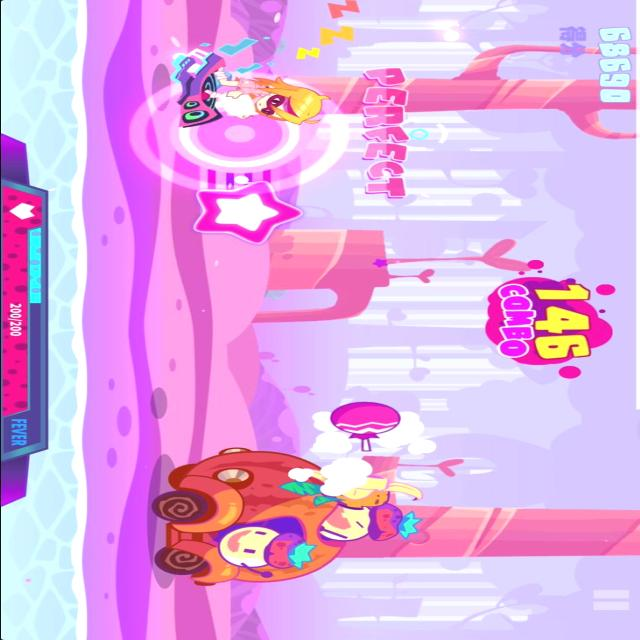cheboss: (151, 448, 419, 588)
hold: (192, 132, 298, 244)
tang: (328, 397, 410, 452)
